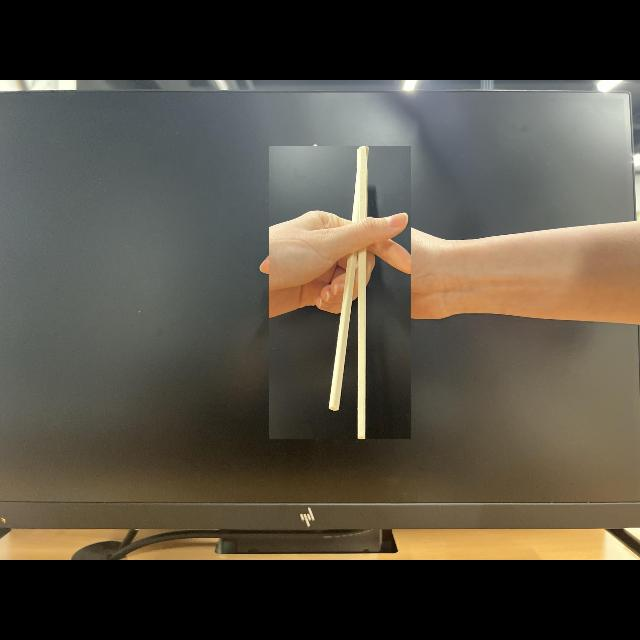stick: (269, 146, 411, 440)
